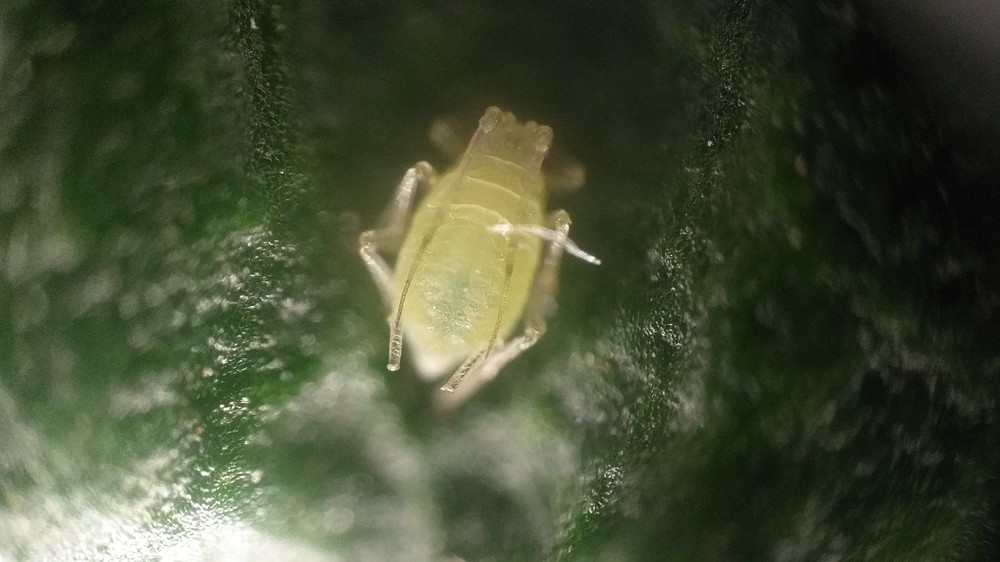Pulgon: (330, 86, 638, 405)
